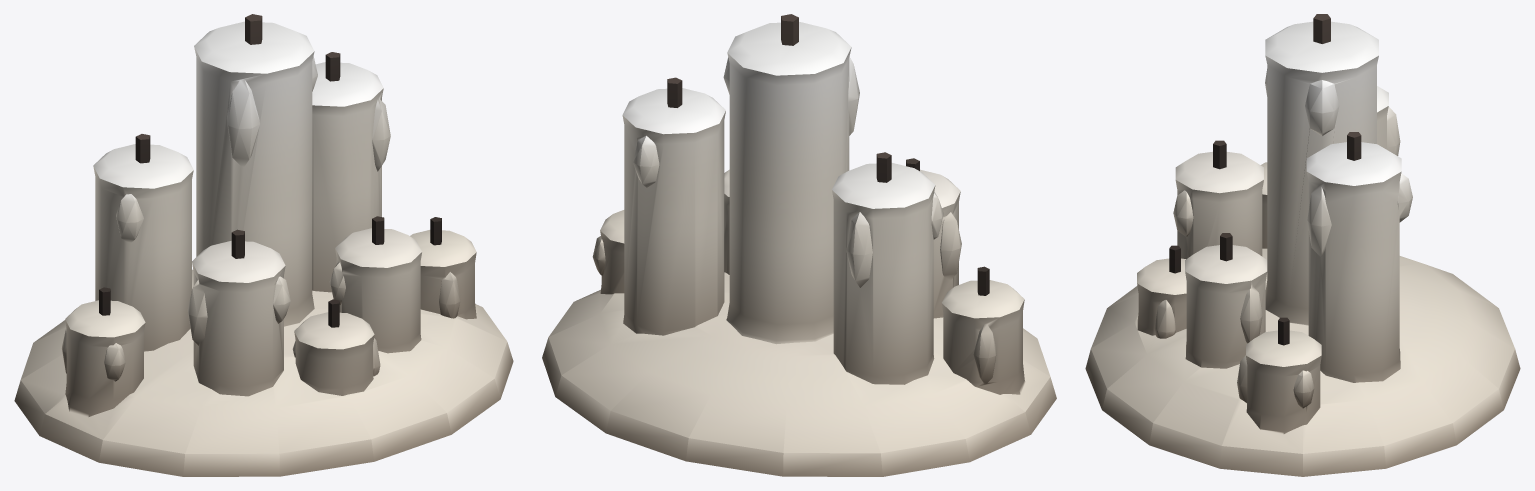
File: candle_pile.glb
The picture shows the model from 3 angles, left to right: view 1: azimuth 30°, elevation 25°; view 2: azimuth 150°, elevation 25°; view 3: azimuth 270°, elevation 25°; orthographic projection. The views are drawn at different scales.
Parts seen in each view (by area): view 1: Item; view 2: Item; view 3: Item.
Part boxes in pixels (left/top/right/bottom): Item: left=14, top=14, right=513, bottom=476; Item: left=542, top=14, right=1056, bottom=476; Item: left=1085, top=14, right=1520, bottom=476.
Bounding box in the file's own units: 1.6 × 1.21 × 1.36.
Materials: 1 (1 with a texture image).
